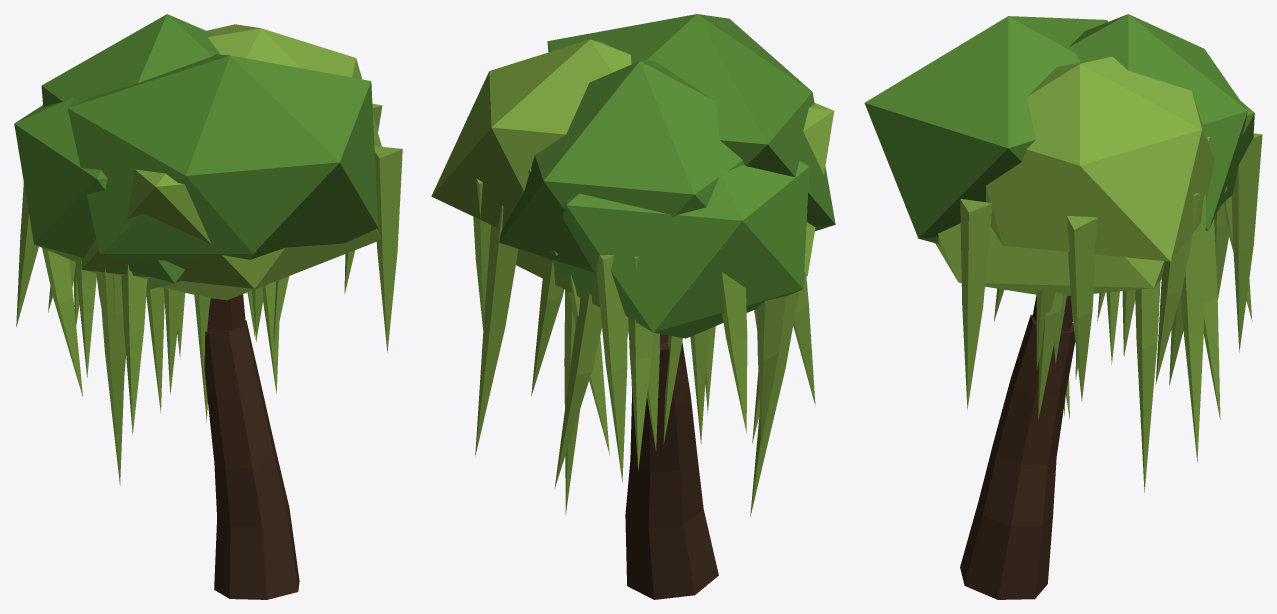
File: Tree_Willow_A.glb
3 views of the same model, side by side, from view 1: azimuth 30°, elevation 25°; view 2: azimuth 150°, elevation 25°; view 3: azimuth 270°, elevation 25° (orthographic). The views are drawn at different scales.
Parts seen in each view (by area): view 1: Tree_Willow_A; view 2: Tree_Willow_A; view 3: Tree_Willow_A.
Boxes of the visible parts, x1,y1,x2,y2 form: Tree_Willow_A: (14,14,402,599); Tree_Willow_A: (431,14,835,599); Tree_Willow_A: (864,14,1262,599).
Size of the model in its own units: 2.83 by 4.42 by 2.86.
